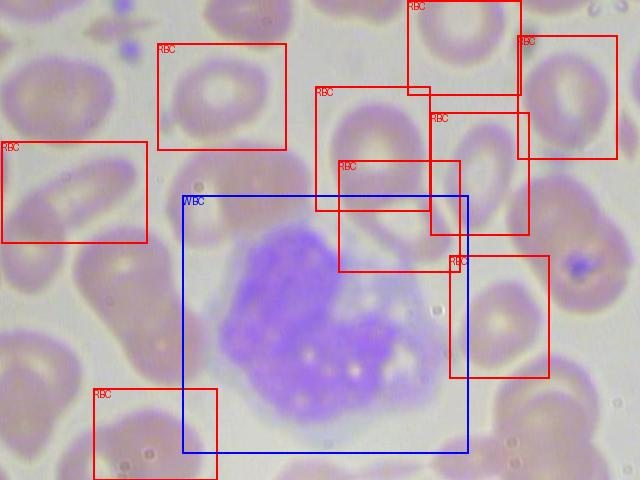RBC: (1, 141, 147, 243), (315, 86, 430, 211), (157, 43, 286, 150), (338, 160, 460, 272), (517, 35, 617, 159), (449, 255, 549, 378), (430, 112, 529, 235), (93, 388, 217, 480), (407, 0, 521, 95)
WBC: (182, 195, 468, 453)
